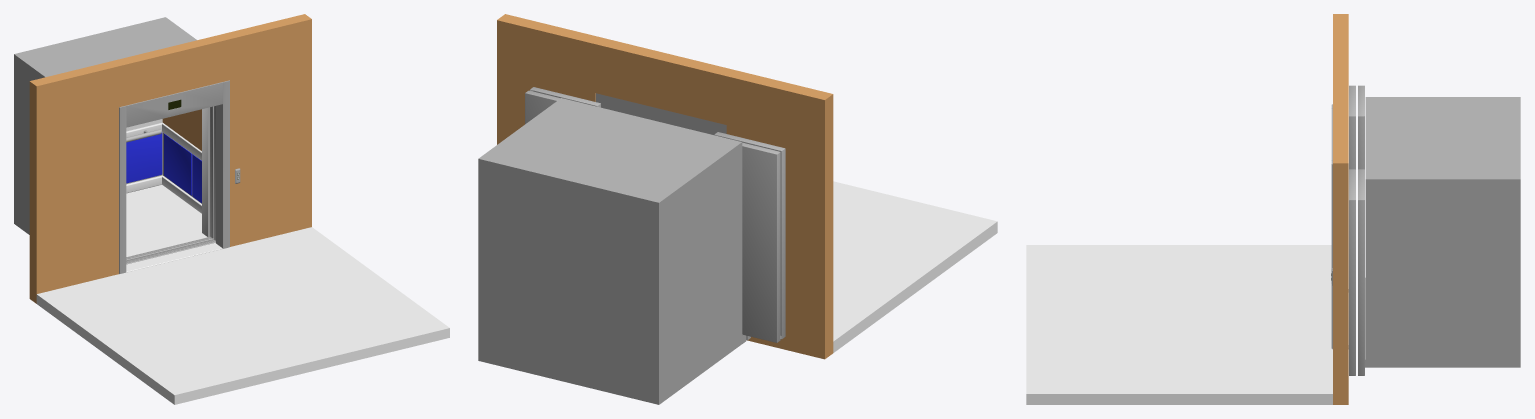
The model's file is Elevator.FBX.
3 renders of one model, left to right at view 1: azimuth 30°, elevation 25°; view 2: azimuth 150°, elevation 25°; view 3: azimuth 270°, elevation 25°, orthographic. The views are drawn at different scales.
Visible parts, largest first — view 1: Pared, Box001, Box004, Box014, panels001, mirror, Box002, Object001, Box008, Object002; view 2: Box001, Pared, Box014, Box003, Box004, Box002; view 3: Pared, Box001, Box014, Box002, Box003, Box004.
Boxes of the visible parts, x1,y1,x2,y2 form: Pared: (29,14,449,404); Box001: (14,58,209,257); Box004: (119,80,229,274); Box014: (14,17,196,77); panels001: (126,132,201,202); mirror: (126,109,201,150); Box002: (210,106,215,240); Object001: (126,175,201,213); Box008: (126,237,215,264); Object002: (126,122,201,160); Box001: (478,146,742,404); Pared: (497,14,997,359); Box014: (478,98,742,206); Box003: (714,132,785,342); Box004: (595,93,726,134); Box002: (525,87,600,124); Pared: (1026,14,1348,404); Box001: (1365,183,1520,367); Box014: (1365,97,1520,183); Box002: (1349,169,1364,375); Box003: (1349,85,1364,169); Box004: (1331,104,1348,349).
Size of the model in its own units: 3.99 by 3.01 by 5.58.
